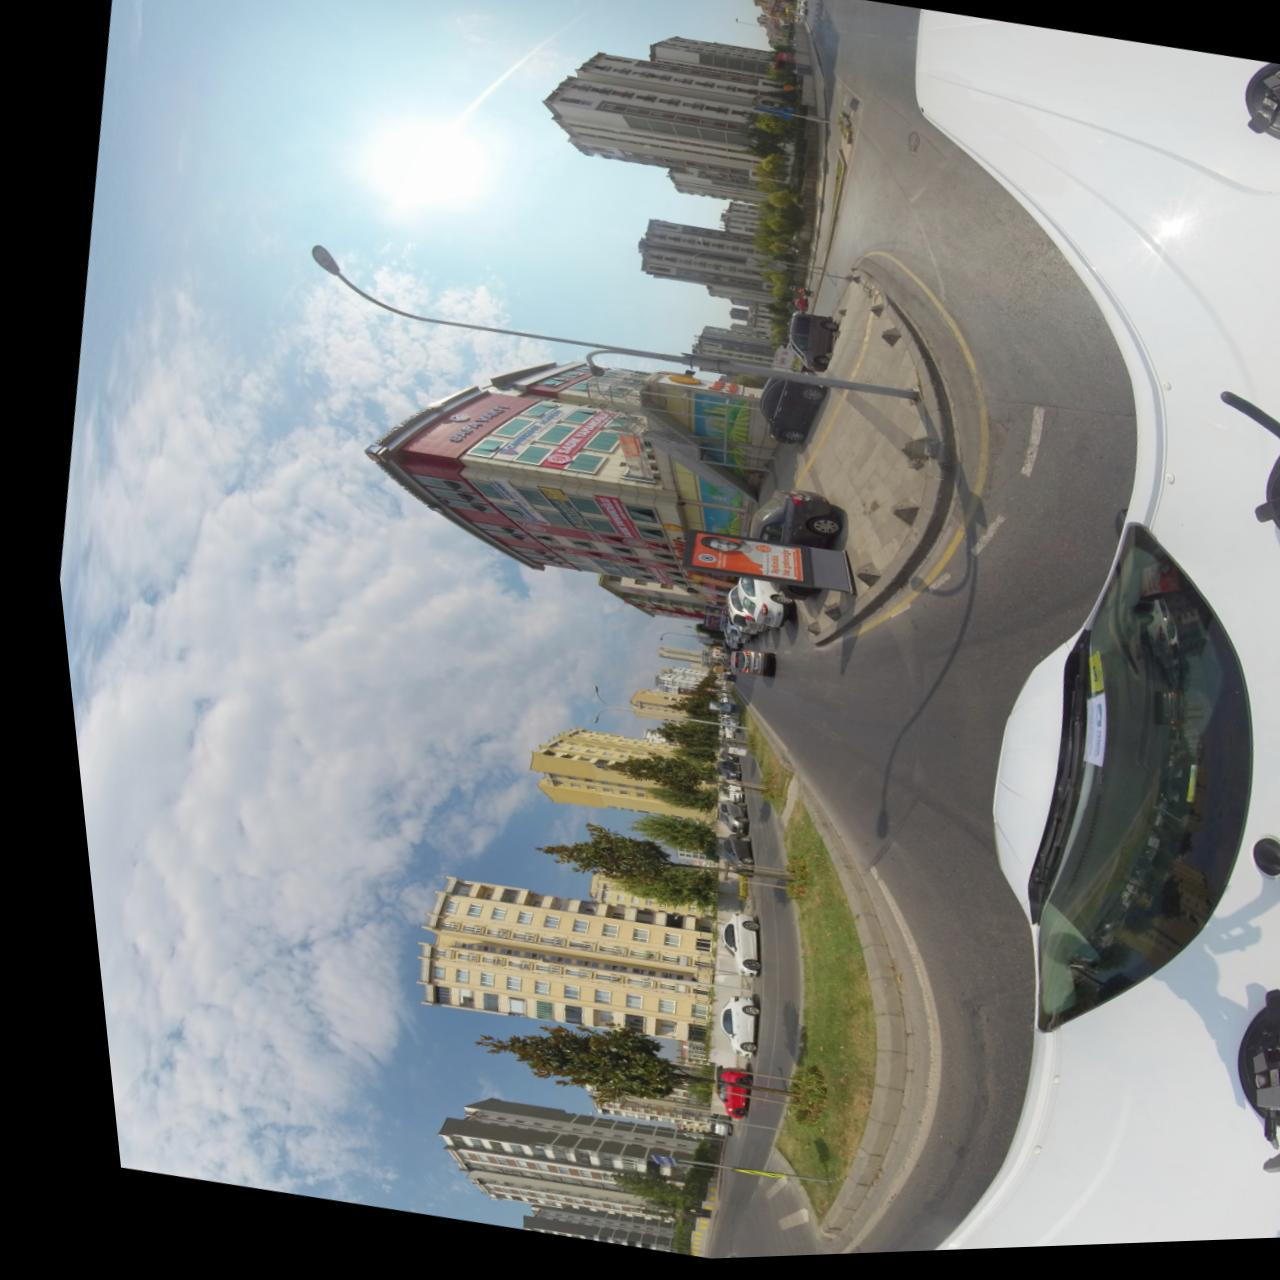SignStore: (535, 415, 606, 468), (488, 411, 561, 459), (479, 483, 538, 529), (527, 490, 581, 533), (584, 499, 626, 542), (633, 570, 656, 588)
